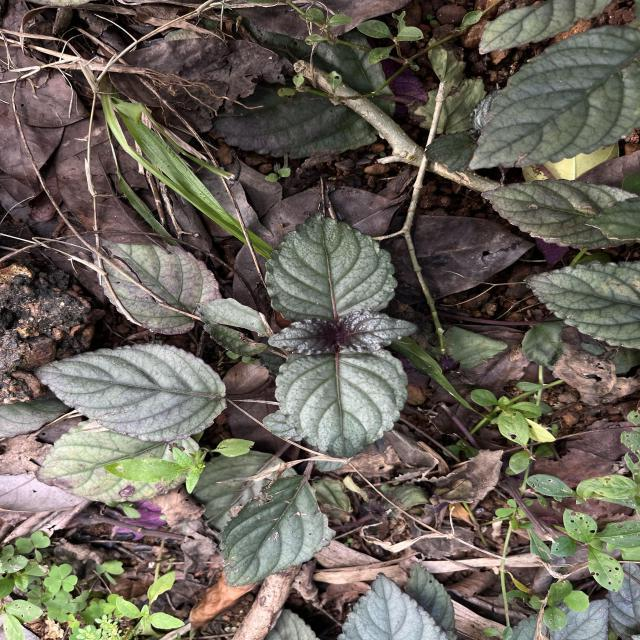Hemigraphis colorata: (465, 22, 640, 172), (30, 341, 228, 444), (272, 346, 412, 462), (262, 210, 400, 322), (216, 472, 338, 588), (478, 177, 640, 252), (520, 258, 640, 352), (335, 571, 451, 640), (338, 310, 421, 354), (266, 316, 340, 356)
